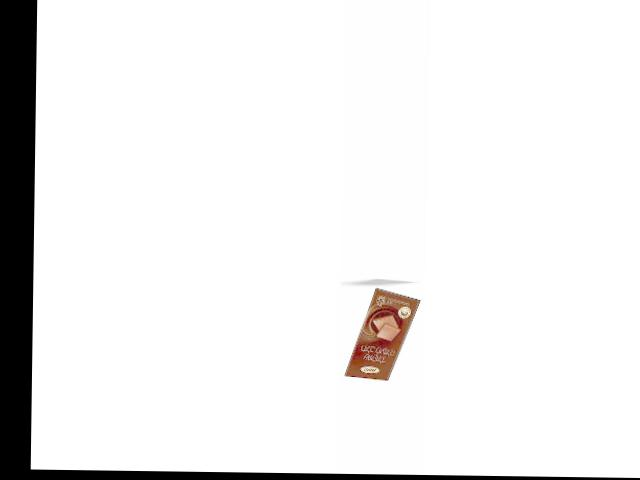chocolate: (343, 283, 423, 382)
